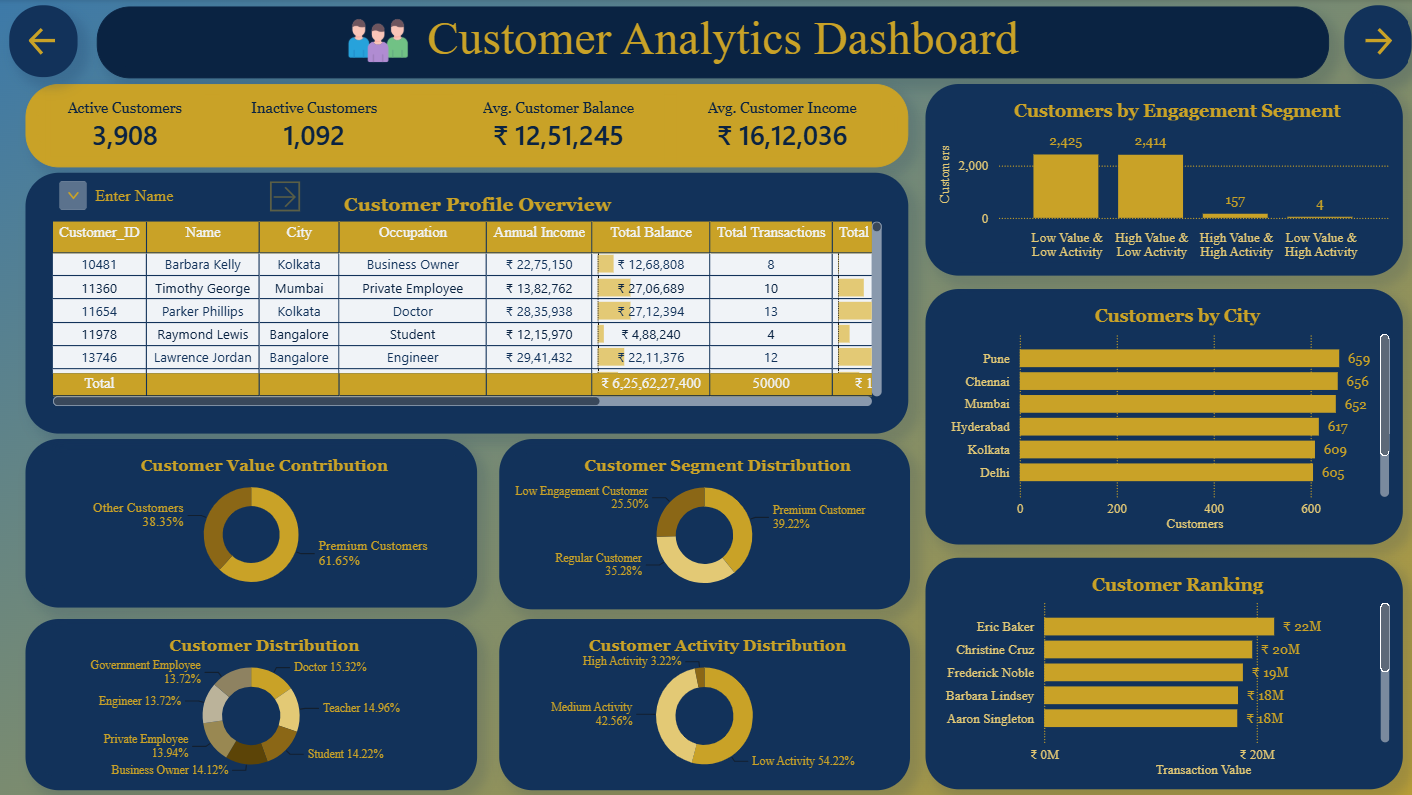

What the dashboard file says about the page in this screenshot:
{"tool":"powerbi","page":{"name":"Customer Analytics Dashboard","canvas":[1280,720],"ordinal":1},"visuals":[{"type":"shape","box":[88.8,6.2,1111.2,65],"z":0},{"type":"shape","box":[25,76.5,796.2,75],"z":1000},{"type":"cardVisual","fields":{"Data":["vw_customer_360.Average Income"]},"box":[612.3,81.2,190.5,66],"z":2000},{"type":"cardVisual","fields":{"Data":["vw_customer_360.Active Customers"]},"box":[42.5,81.5,143.8,66.2],"z":3000},{"type":"cardVisual","fields":{"Data":["vw_customer_360.Inactive Customers"]},"box":[199.2,81.2,171.9,66],"z":4000},{"type":"cardVisual","fields":{"Data":["vw_customer_360.Average Customer Balance"]},"box":[410.7,81.2,190.5,66],"z":5000},{"type":"donutChart","title":"Customer Segment Distribution","fields":{"Category":["vw_customer_value_segment.Customer_Segment"],"Y":["CountNonNull(vw_customer_value_segment.Customer_ID)"]},"box":[451.5,397.3,370,153.4],"z":6000},{"type":"donutChart","title":"Customer Distribution","fields":{"Category":["vw_customer_360.Occupation"],"Y":["Count(vw_customer_360.Customer_ID)"]},"box":[24.7,558.8,407,154.6],"z":7000},{"type":"clusteredBarChart","fields":{"Category":["vw_customer_360.City"],"Y":["vw_customer_360.Customers"]},"box":[836.2,261.2,430,230],"z":8000},{"type":"clusteredBarChart","title":"Customer Ranking","fields":{"Category":["vw_high_value_customers.Name"],"Y":["Max(vw_high_value_customers.Total_Transaction_Value)"]},"box":[836.2,503.4,430.5,209],"z":9000},{"type":"donutChart","title":"Customer Value Contribution","fields":{"Y":["vw_high_value_customers.Premium Customer Value","vw_high_value_customers.Non Premium Customer Value"]},"box":[24.7,397.3,407,152.1],"z":10000},{"type":"donutChart","title":"Customer Activity Distribution","fields":{"Category":["vw_customer_activity.Activity_Category"],"Y":["CountNonNull(vw_customer_activity.Customer_ID)"]},"box":[451.5,558.8,370,154.6],"z":11000},{"type":"clusteredColumnChart","title":"Customers by Engagement Segment","fields":{"Category":["vw_customer_activity.Customer Engagement Segment"],"Y":["CountNonNull(vw_customer_activity.Customer_ID)"]},"box":[836.2,76.2,430,172.5],"z":12000},{"type":"tableEx","title":"Customer Profile Overview","fields":{"Values":["vw_customer_360.Customer_ID","vw_customer_360.Name","vw_customer_360.City","vw_customer_360.Occupation","vw_customer_360.Annual_Income","Sum(vw_customer_360.Total_Balance)","Sum(vw_customer_360.Total_Transactions)","Sum(vw_customer_360.Total_Transaction_Value)","Sum(vw_customer_360.Total_Approved_Loans)","Sum(vw_customer_360.Total_Loan_Exposure)"]},"box":[25,156.5,796.2,235],"z":13000},{"type":"textSlicer","fields":{"Values":["vw_customer_360.Name"]},"box":[42.5,155.2,242.5,43.8],"z":14000},{"type":"textbox","box":[382.5,6,560,62.5],"z":15000},{"type":"actionButton","box":[1213.8,6,61.2,66.2],"z":16000},{"type":"actionButton","box":[10,6,61.2,65],"z":17000},{"type":"image","box":[285,6.2,115,61.2],"z":18000}]}

Visuals, with their boxes in screenshot pixels (x1, y1, x2, y2), scaled from the page's 1280x720 canvas onto the 1412x795 screenshot:
shape: <box>98,7,1324,79</box>
shape: <box>28,84,906,167</box>
cardVisual - vw_customer_360.Average Income: <box>675,90,886,163</box>
cardVisual - vw_customer_360.Active Customers: <box>47,90,206,163</box>
cardVisual - vw_customer_360.Inactive Customers: <box>220,90,409,163</box>
cardVisual - vw_customer_360.Average Customer Balance: <box>453,90,663,163</box>
"Customer Segment Distribution" donutChart: <box>498,439,906,608</box>
"Customer Distribution" donutChart: <box>27,617,476,788</box>
clusteredBarChart - vw_customer_360.City x vw_customer_360.Customers: <box>922,288,1397,542</box>
"Customer Ranking" clusteredBarChart: <box>922,556,1397,787</box>
"Customer Value Contribution" donutChart: <box>27,439,476,607</box>
"Customer Activity Distribution" donutChart: <box>498,617,906,788</box>
"Customers by Engagement Segment" clusteredColumnChart: <box>922,84,1397,275</box>
"Customer Profile Overview" tableEx: <box>28,173,906,432</box>
textSlicer - vw_customer_360.Name: <box>47,171,314,220</box>
textbox: <box>422,7,1040,76</box>
actionButton: <box>1339,7,1406,80</box>
actionButton: <box>11,7,79,78</box>
image: <box>314,7,441,74</box>
